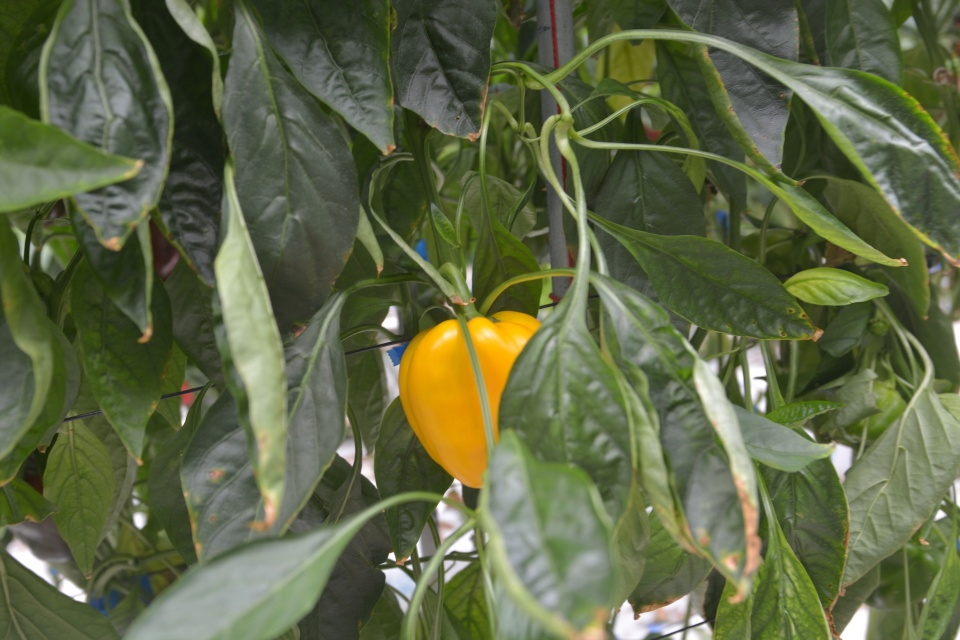fruit: (398, 308, 542, 490), (3, 432, 75, 564), (863, 532, 946, 611), (846, 379, 908, 441)
pedicle: (910, 539, 933, 549)
